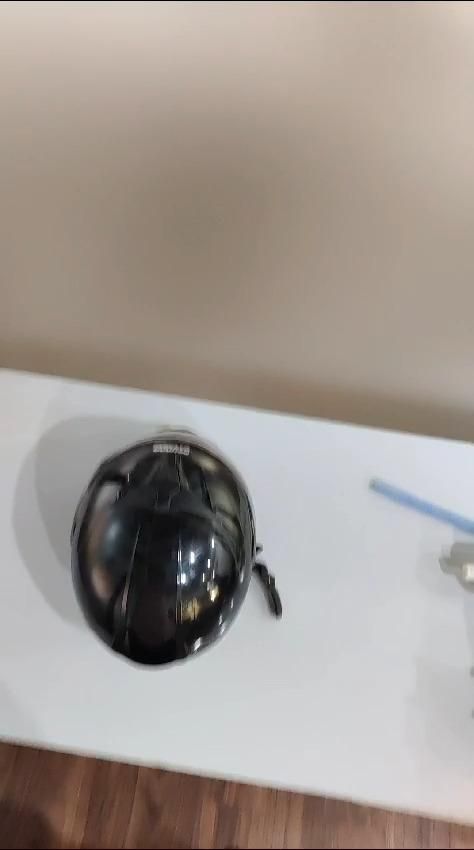Helmet: (60, 428, 260, 670)
